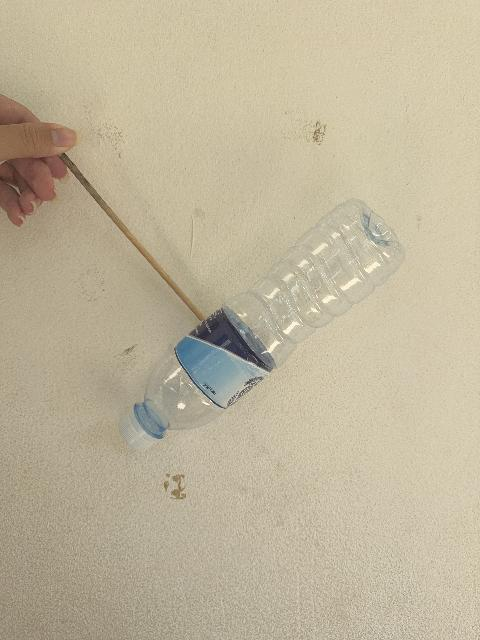bottle: (118, 200, 403, 450)
